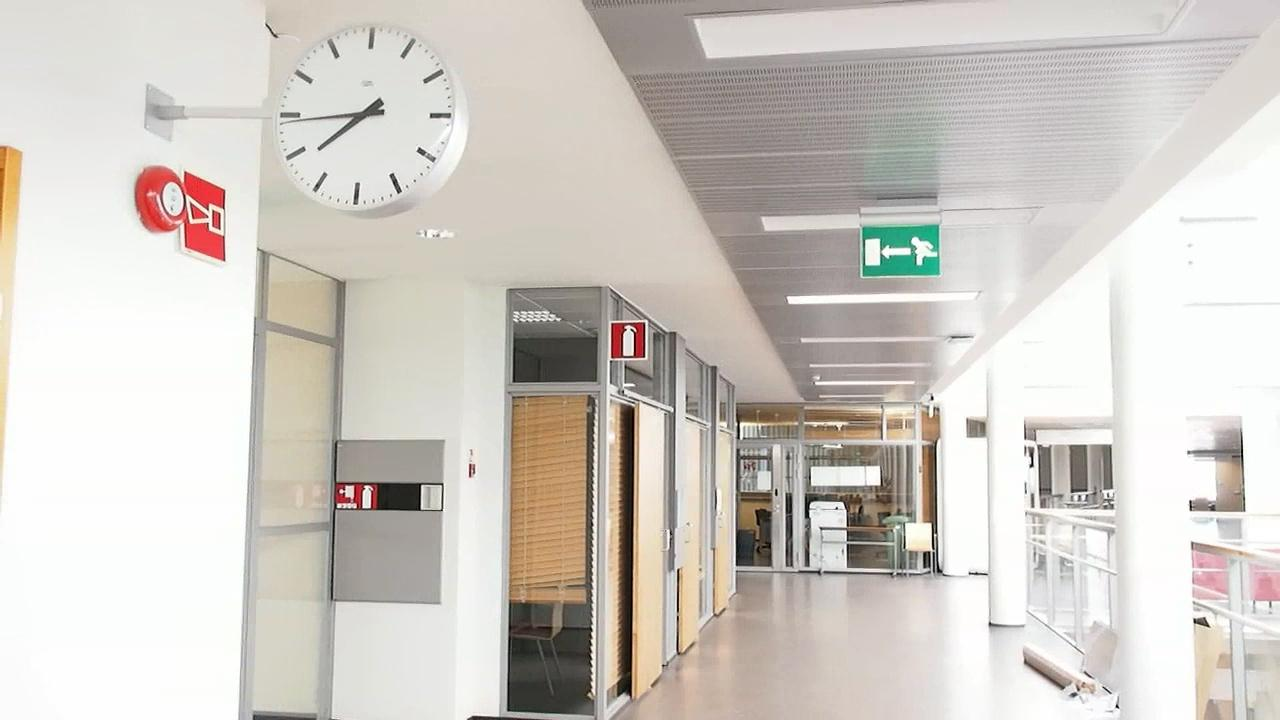clock: (262, 10, 467, 218)
exit: (865, 219, 950, 279)
